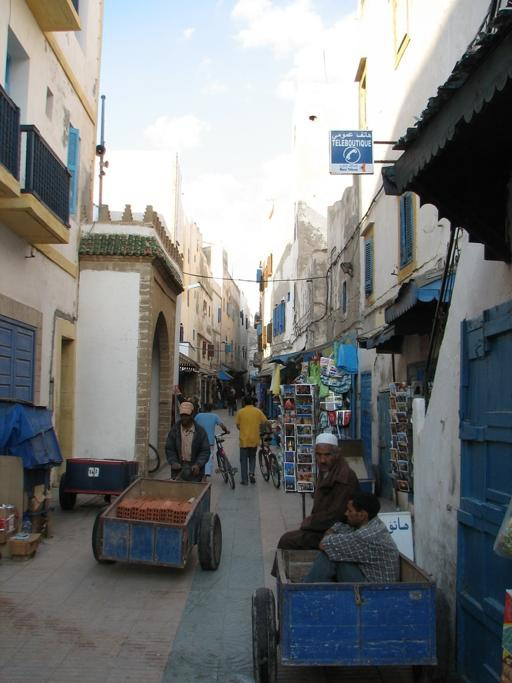non-vehicle: (212, 428, 240, 489), (257, 431, 280, 489), (147, 441, 160, 472)
